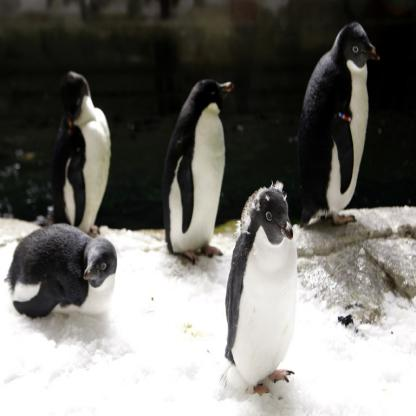Penguin: (279, 17, 392, 238), (216, 185, 303, 413), (38, 58, 131, 270), (151, 61, 242, 274), (0, 209, 136, 346)
